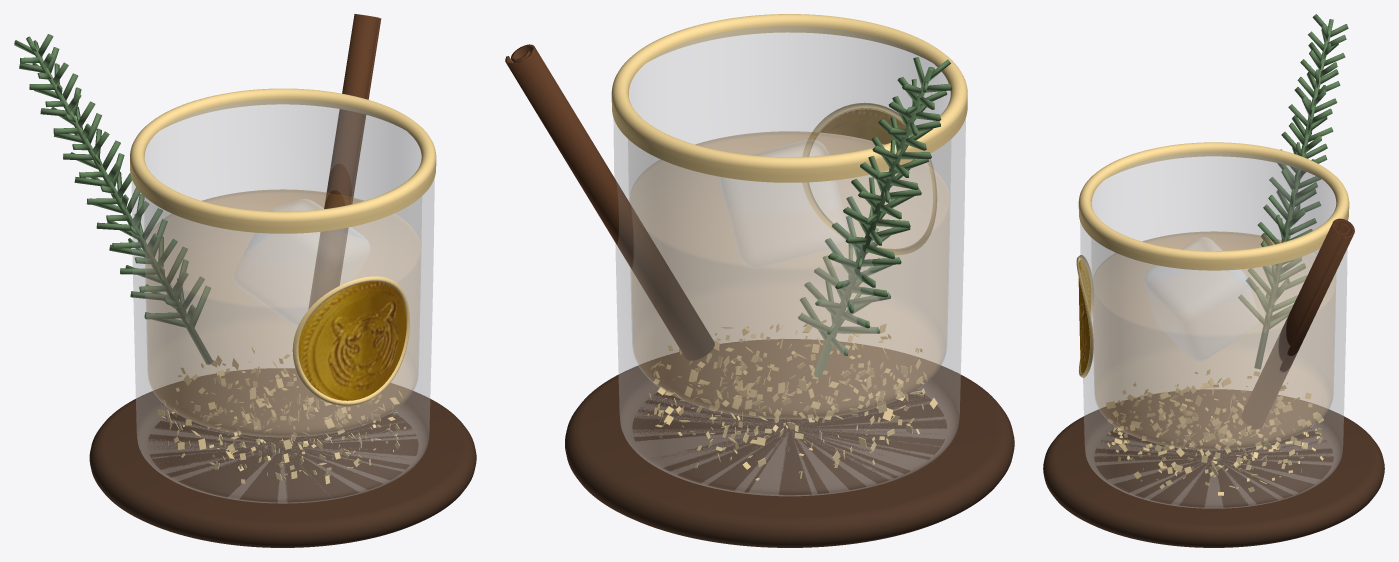
The model's file is rocks-ar.glb.
3 renders of one model, left to right at view 1: azimuth 30°, elevation 25°; view 2: azimuth 150°, elevation 25°; view 3: azimuth 270°, elevation 25°, orthographic. The views are drawn at different scales.
Parts seen in each view (by area): view 1: rocks_Glass, prop_Coaster, rocks_Liquid, rocks_Rim, prop_Rosemary, rocks_Medallion, prop_Cinnamon, rocks_Flakes, rocks_Bezel, prop_Ice; view 2: rocks_Glass, prop_Coaster, rocks_Liquid, rocks_Rim, prop_Rosemary, prop_Cinnamon, rocks_Flakes, rocks_Bezel, rocks_Medallion, prop_Ice; view 3: rocks_Glass, prop_Coaster, rocks_Liquid, rocks_Rim, prop_Rosemary, rocks_Flakes, prop_Cinnamon, rocks_Medallion, prop_Ice, rocks_Bezel.
Boxes of the visible parts, x1,y1,x2,y2 form: rocks_Glass: [131, 99, 434, 503]; prop_Coaster: [89, 368, 476, 547]; rocks_Liquid: [146, 189, 420, 436]; rocks_Rim: [130, 88, 436, 233]; prop_Rosemary: [14, 34, 212, 364]; rocks_Medallion: [298, 282, 406, 400]; prop_Cinnamon: [309, 14, 381, 308]; rocks_Flakes: [158, 347, 406, 484]; rocks_Bezel: [292, 276, 409, 405]; prop_Ice: [245, 199, 367, 252]; rocks_Glass: [613, 26, 965, 495]; prop_Coaster: [565, 339, 1014, 547]; rocks_Liquid: [630, 131, 949, 418]; rocks_Rim: [611, 14, 967, 182]; prop_Rosemary: [798, 57, 951, 377]; prop_Cinnamon: [505, 44, 714, 360]; rocks_Flakes: [647, 312, 937, 480]; rocks_Bezel: [802, 102, 936, 254]; rocks_Medallion: [819, 108, 910, 144]; prop_Ice: [720, 139, 828, 199]; rocks_Glass: [1080, 152, 1347, 508]; prop_Coaster: [1043, 389, 1384, 547]; rocks_Liquid: [1093, 231, 1334, 449]; rocks_Rim: [1078, 142, 1349, 270]; prop_Rosemary: [1238, 14, 1348, 368]; rocks_Flakes: [1106, 369, 1323, 495]; prop_Cinnamon: [1241, 218, 1354, 429]; rocks_Medallion: [1078, 259, 1091, 373]; prop_Ice: [1145, 237, 1251, 291]; rocks_Bezel: [1076, 255, 1093, 378].
Bounding box in the file's own units: 0.1221 × 0.1358 × 0.11.
8 materials, 1 textured.
